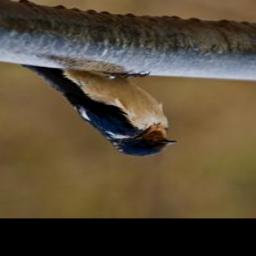Swallow: (21, 64, 178, 158)
